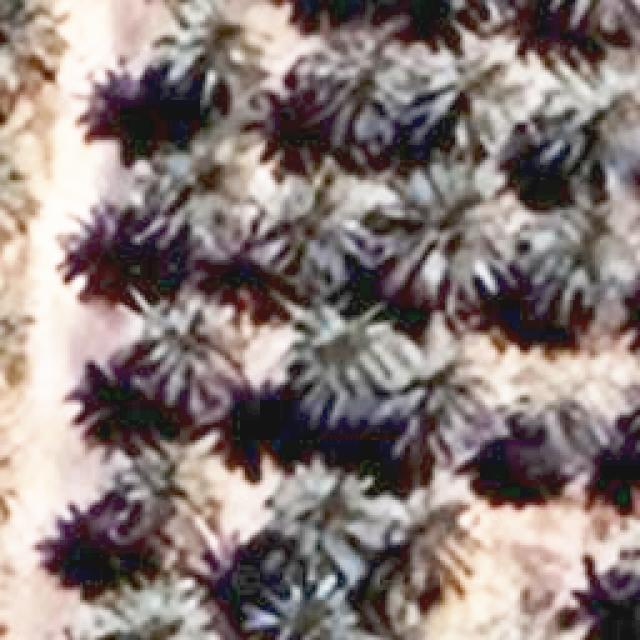PalmTree: (108, 162, 442, 580), (366, 160, 517, 321), (255, 455, 405, 584), (139, 121, 272, 263), (139, 121, 272, 262), (253, 462, 393, 586), (279, 303, 416, 425), (280, 303, 414, 427), (106, 443, 231, 574), (106, 442, 226, 578), (131, 282, 246, 421), (517, 196, 639, 323), (518, 196, 640, 322), (142, 0, 279, 111), (250, 160, 357, 302), (253, 162, 364, 294), (137, 286, 246, 420), (376, 353, 505, 466), (148, 0, 274, 115), (402, 49, 532, 160), (533, 54, 640, 182), (306, 32, 422, 150), (383, 486, 493, 610), (380, 352, 499, 466), (306, 35, 420, 149), (381, 487, 484, 609), (401, 58, 534, 148), (525, 61, 639, 166), (78, 579, 223, 640), (240, 573, 367, 638), (240, 574, 362, 640), (0, 0, 72, 107), (0, 120, 35, 270), (0, 120, 34, 272), (348, 598, 462, 640), (0, 272, 31, 416), (614, 486, 640, 625), (540, 0, 640, 35), (278, 0, 418, 25), (618, 494, 640, 630), (429, 0, 536, 27)
